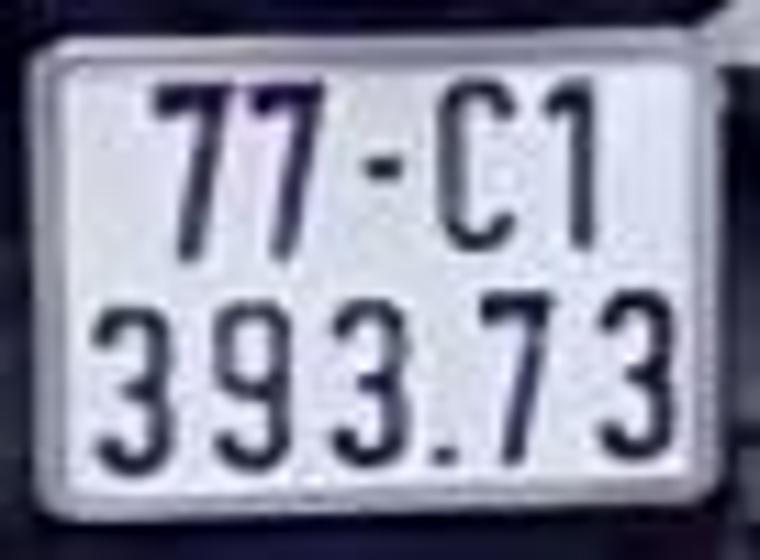-: (353, 147, 416, 187)
.: (428, 433, 467, 476)
1: (539, 74, 608, 256)
3: (588, 283, 683, 465), (86, 301, 178, 480), (327, 295, 414, 470)
7: (147, 80, 236, 269), (471, 283, 558, 470), (244, 78, 329, 266)
9: (207, 295, 300, 476)
C: (427, 75, 520, 253)
